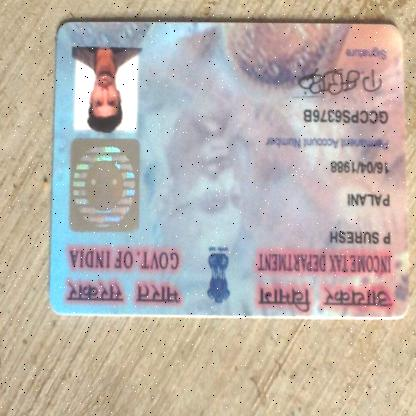pan_card: (41, 16, 413, 334)
